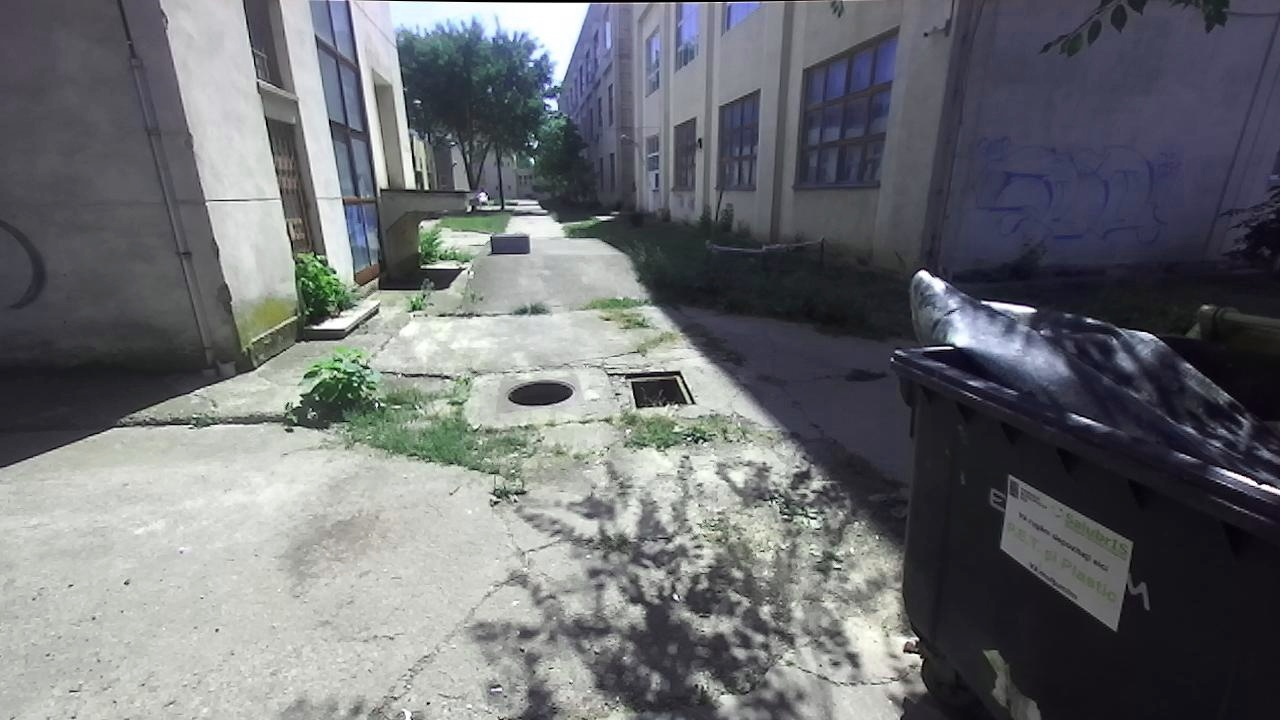drain: (611, 367, 699, 412), (503, 375, 577, 406)
